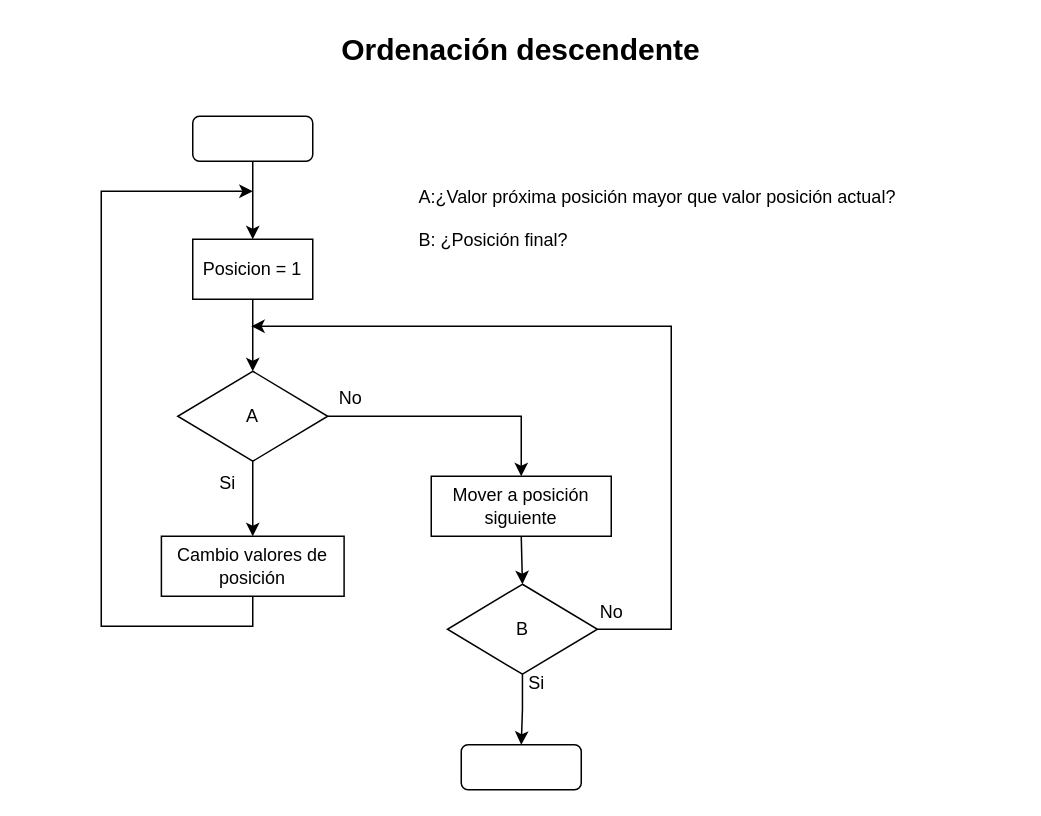
Some shapes in this 1041 by 816 pixel diagram are drawn without their labels. The centre of each missing label's shape, as x and y in pixels:
Fin: pixel 520 766
Inicio: pixel 252 138
